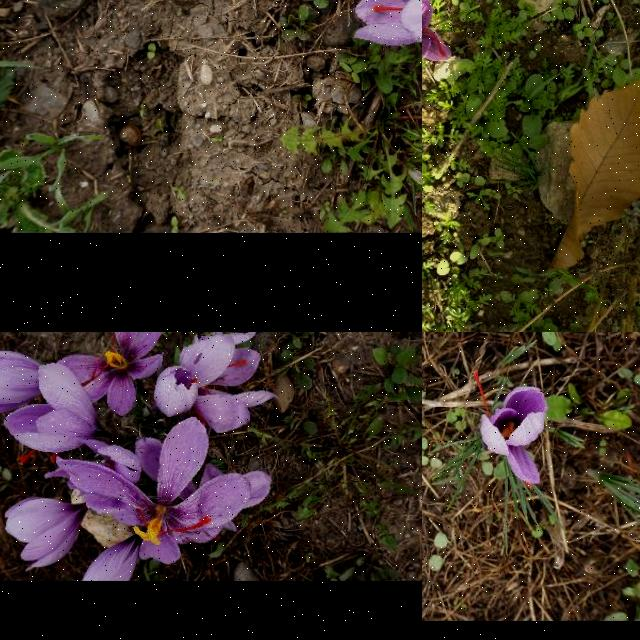flower: (56, 416, 252, 566), (56, 332, 168, 417), (470, 370, 548, 490), (3, 497, 85, 573), (353, 0, 422, 48), (422, 0, 453, 93), (81, 538, 140, 580), (153, 366, 199, 418)
overlap: (0, 332, 280, 544)
